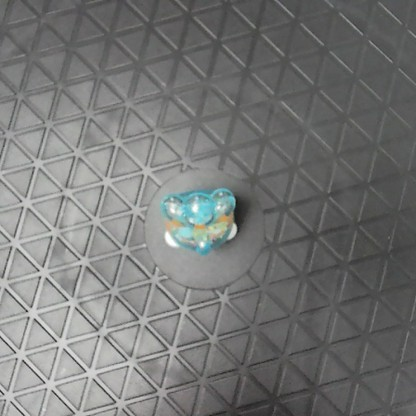bluefish: (159, 186, 240, 258)
